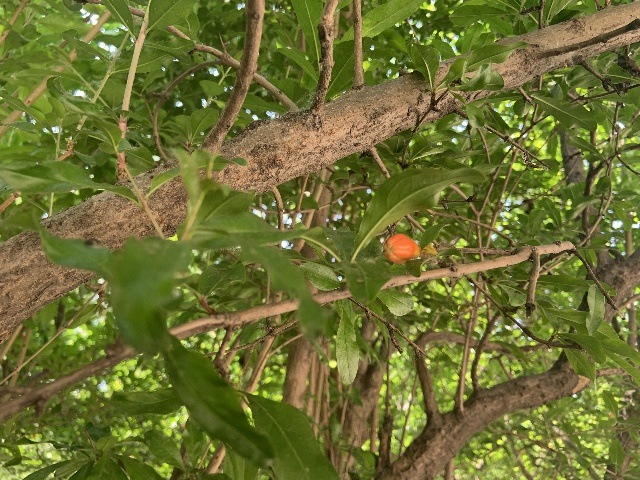bud: (384, 233, 420, 263)
